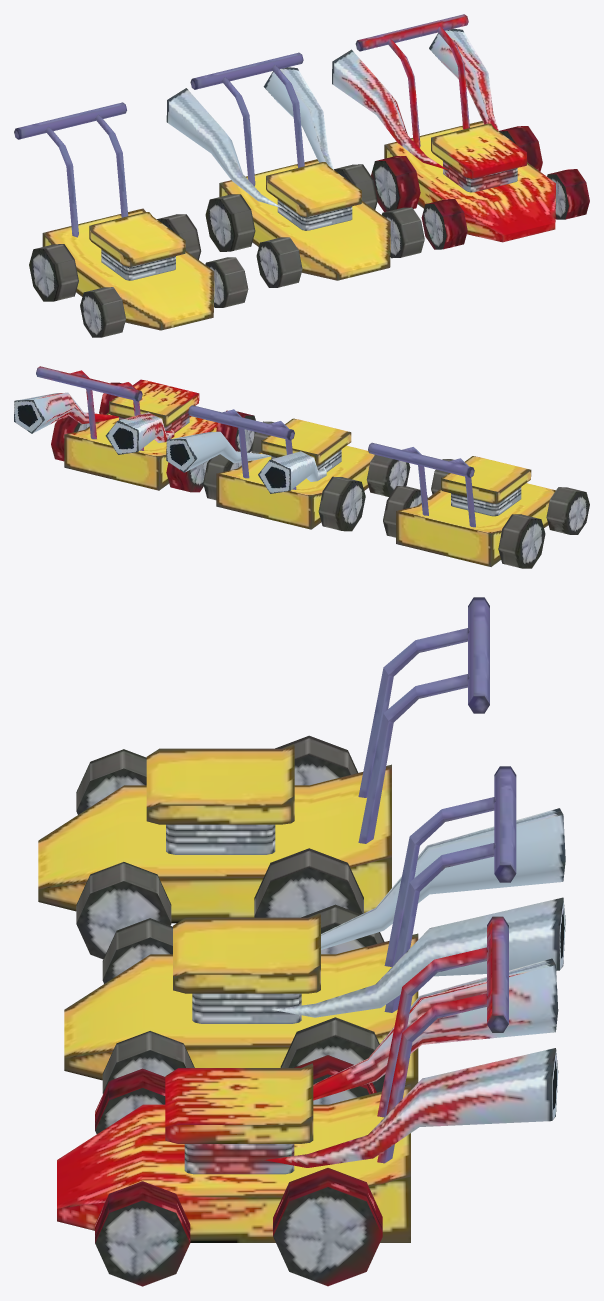
File: mower.glb
3 renders of one model, top to bottom at view 1: azimuth 30°, elevation 25°; view 2: azimuth 150°, elevation 25°; view 3: azimuth 270°, elevation 25°, orthographic. The views are drawn at different scales.
Parts seen in each view (by area): view 1: lawn mower_Material #26_0, lawn mower TURBO_Material #59_0, lawn mower BLOOD_Material #65_0, tubo1__0, tubo1_Material #66_0, cubremotor_Material #51_0, cubremotor_Material #57_0, cubremotor_Material #67_0, asa_Material #52_0, asa_Material #62_0, asa_Material #69_0, rueda dcha atras_Material #27_0 (+14 smaller); view 2: lawn mower_Material #26_0, lawn mower TURBO_Material #59_0, lawn mower BLOOD_Material #65_0, tubo1__0, tubo1_Material #66_0, cubremotor_Material #51_0, cubremotor_Material #57_0, cubremotor_Material #67_0, rueda dcha atras_Material #38_0, rueda dcha atras_Material #27_0, asa_Material #52_0, asa_Material #62_0 (+11 smaller); view 3: lawn mower_Material #26_0, lawn mower BLOOD_Material #65_0, tubo1_Material #66_0, lawn mower TURBO_Material #59_0, tubo1__0, cubremotor_Material #51_0, cubremotor_Material #57_0, cubremotor_Material #67_0, rueda izq atras_Material #70_0, asa_Material #52_0, rueda izq alante_Material #71_0, asa_Material #62_0 (+14 smaller).
Boxes of the visible parts, x1,y1,x2,y2 form: lawn mower_Material #26_0: (42, 208, 214, 330); lawn mower TURBO_Material #59_0: (219, 159, 390, 280); lawn mower BLOOD_Material #65_0: (384, 121, 555, 242); tubo1__0: (166, 67, 333, 208); tubo1_Material #66_0: (332, 29, 498, 169); cubremotor_Material #51_0: (89, 212, 185, 267); cubremotor_Material #57_0: (266, 162, 361, 217); cubremotor_Material #67_0: (431, 123, 526, 178); asa_Material #52_0: (14, 102, 128, 237); asa_Material #62_0: (190, 52, 304, 186); asa_Material #69_0: (355, 14, 469, 147); rueda dcha atras_Material #27_0: (29, 244, 78, 301); lawn mower_Material #26_0: (396, 483, 555, 566); lawn mower TURBO_Material #59_0: (216, 445, 374, 529); lawn mower BLOOD_Material #65_0: (64, 412, 217, 490); tubo1__0: (166, 431, 326, 493); tubo1_Material #66_0: (14, 392, 174, 454); cubremotor_Material #51_0: (441, 456, 531, 503); cubremotor_Material #57_0: (261, 418, 351, 465); cubremotor_Material #67_0: (109, 379, 199, 427); rueda dcha atras_Material #38_0: (318, 476, 365, 531); rueda dcha atras_Material #27_0: (498, 514, 545, 568); asa_Material #52_0: (368, 442, 475, 527); asa_Material #62_0: (188, 405, 296, 489); lawn mower_Material #26_0: (38, 764, 391, 923); lawn mower BLOOD_Material #65_0: (57, 1084, 410, 1242); tubo1_Material #66_0: (264, 958, 558, 1167); lawn mower TURBO_Material #59_0: (64, 933, 418, 1089); tubo1__0: (272, 808, 565, 1017); cubremotor_Material #51_0: (146, 744, 294, 824); cubremotor_Material #57_0: (173, 913, 320, 993); cubremotor_Material #67_0: (165, 1063, 313, 1143); rueda izq atras_Material #70_0: (273, 1168, 382, 1286); asa_Material #52_0: (358, 597, 489, 843); rueda izq alante_Material #71_0: (95, 1181, 190, 1286); asa_Material #62_0: (384, 766, 516, 1012).
Size of the model in its own units: 2.92 by 0.769 by 1.44.
3 materials, 3 textured.
